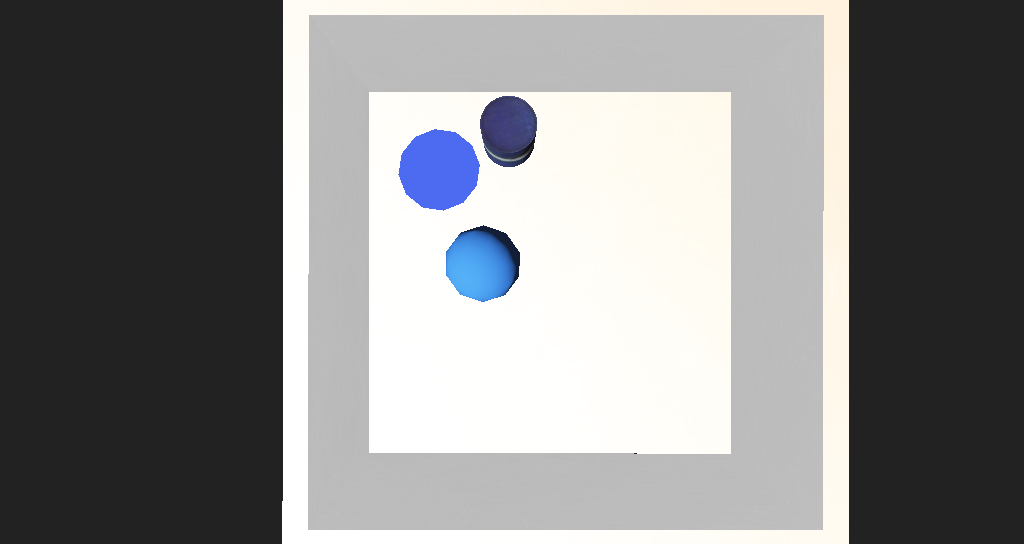cone: (448, 167, 495, 205)
cylinder: (381, 188, 455, 241)
sphere: (421, 239, 482, 286)
